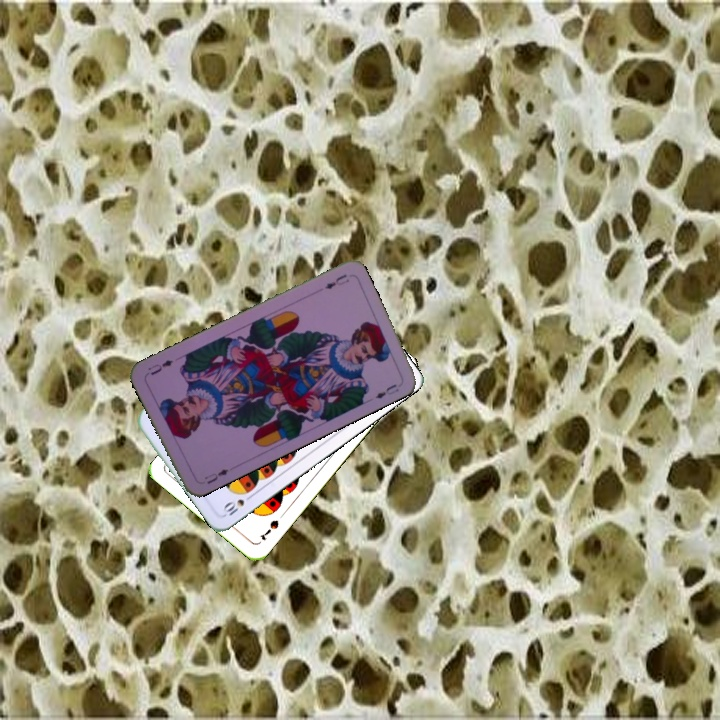EU: (200, 465, 231, 487), (321, 270, 352, 292)
S10: (219, 490, 256, 519)
S7: (256, 516, 281, 543)
